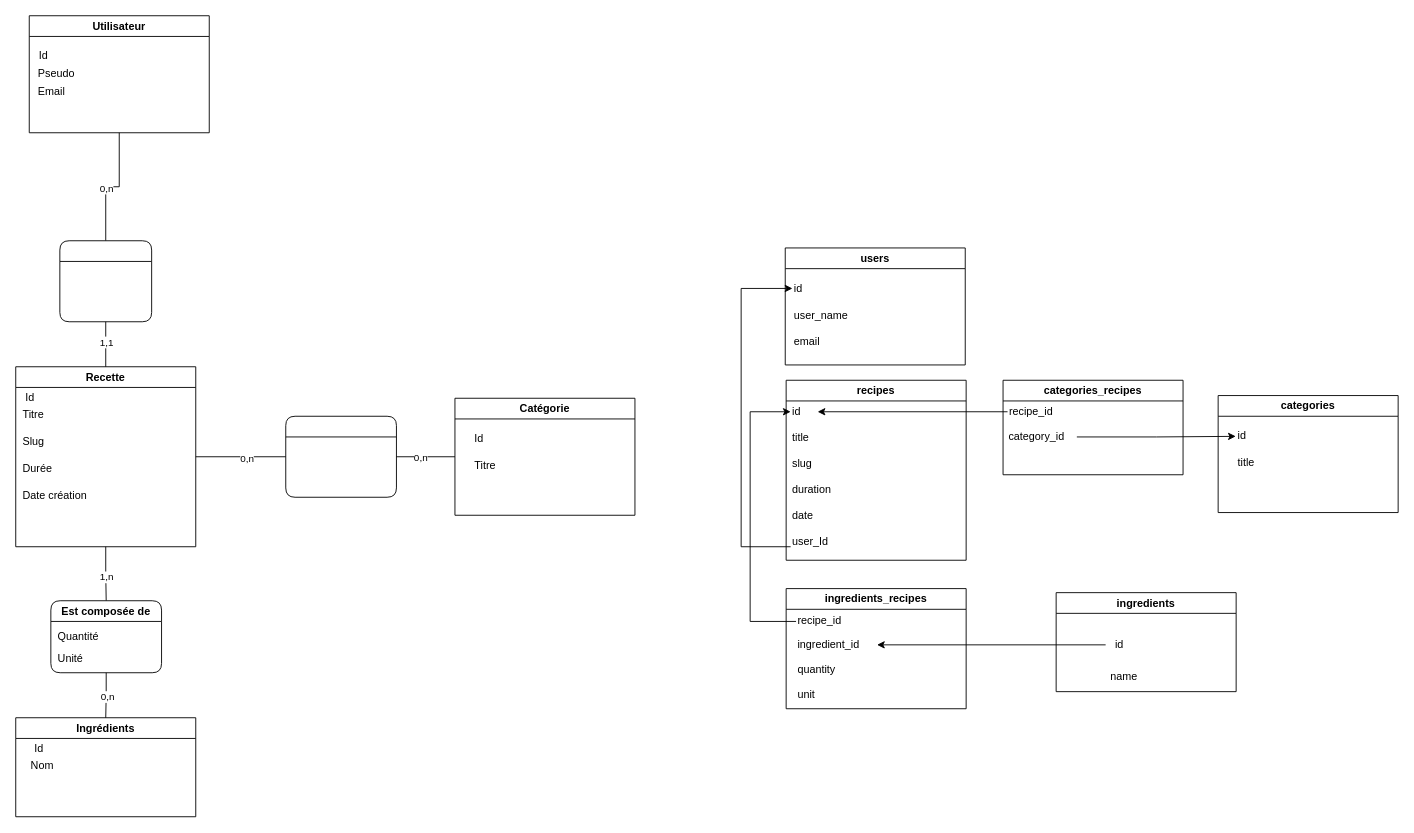
This 1414x833 diagram has some shape labels left out. The shapes that lost their labels are listed below. From the top down, each one's centre as x and y in pixels, then its label:
pixel 105 281: créé
pixel 340 456: Appartient
